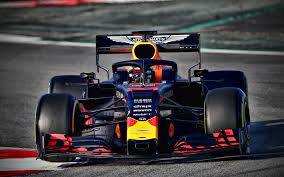FormulaOneCar: (29, 27, 257, 168)
